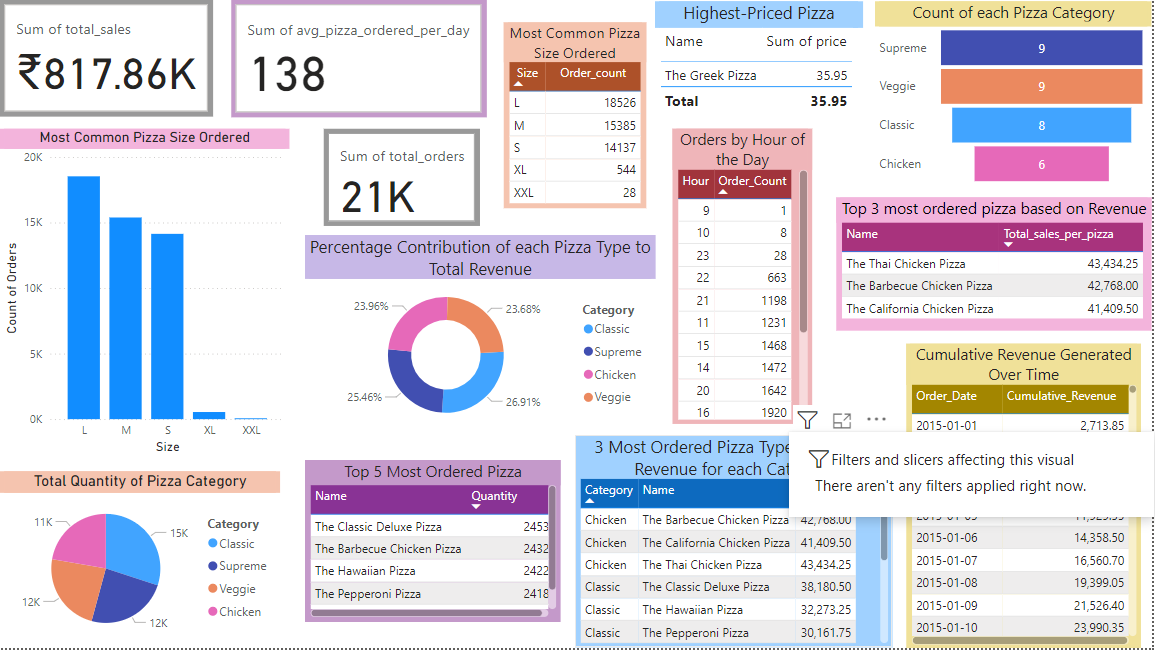

This screenshot's page, from the dashboard's own definition file:
{"tool":"powerbi","page":{"name":"Page 1","canvas":[1280,720],"ordinal":0},"visuals":[{"type":"cardVisual","fields":{"Data":["Sum(Query1.total_orders)"]},"box":[360,143.3,173.3,108.3],"z":0},{"type":"cardVisual","fields":{"Data":["Sum(Query3.total_sales)"]},"box":[0,0,237.7,129],"z":1000},{"type":"tableEx","title":"Highest-Priced Pizza","fields":{"Values":["pizzahut pizza_types.name","Sum(pizzahut pizzas.price)"]},"box":[727.9,1.5,230.9,129.4],"z":2000},{"type":"tableEx","title":"Most Common Pizza Size Ordered","fields":{"Values":["Query5.size","Query5.order_count"]},"box":[560,25,158.3,206.7],"z":3000},{"type":"clusteredColumnChart","title":"Most Common Pizza Size Ordered","fields":{"Category":["pizzahut pizzas.size"],"Y":["CountNonNull(pizzahut order_details.order_details_id)"]},"box":[0,143.3,321.7,366.7],"z":4000},{"type":"tableEx","title":"Top 5 Most Ordered Pizza","fields":{"Values":["pizzahut pizza_types.name","Sum(pizzahut order_details.quantity)"]},"box":[339.1,510.9,284.4,179.7],"z":5000},{"type":"pieChart","title":"Total Quantity of Pizza Category","fields":{"Category":["pizzahut pizza_types.category"],"Y":["Sum(pizzahut order_details.quantity)"]},"box":[0,523.2,311.6,197.1],"z":6000},{"type":"tableEx","title":"Orders by Hour of the Day","fields":{"Values":["Query6.HOUR(order_time)","Query6.order_count"]},"box":[746.7,143.3,155,328.3],"z":7000},{"type":"funnel","title":"Count of each Pizza Category","fields":{"Category":["Query7.category"],"Y":["Sum(Query7.COUNT(name))"]},"box":[972.1,1.5,307.4,208.8],"z":8000},{"type":"cardVisual","fields":{"Data":["Sum(Query9.avg_pizza_ordered_per_day)"]},"box":[256.2,0,283.8,130],"z":9000},{"type":"tableEx","title":"Top 3 most ordered pizza based on Revenue","fields":{"Values":["Query10.name","Sum(Query10.total_sales_per_pizza)"]},"box":[929,218.8,350.7,147.8],"z":10000},{"type":"donutChart","title":"Percentage Contribution of each Pizza Type to Total Revenue","fields":{"Category":["Query11.category"],"Y":["Sum(Query11.revenue)"]},"box":[338.5,261.5,389.4,222.1],"z":11000},{"type":"tableEx","title":"Cumulative Revenue Generated Over Time","fields":{"Values":["Query12.order_date","Query12.cum_revenue"]},"box":[1006.2,381.2,260.9,339.1],"z":12000},{"type":"tableEx","title":"3 Most Ordered Pizza Types based on Revenue for each Category","fields":{"Values":["Query13.category","Query13.name","Query13.revenue"]},"box":[639.1,482.8,353.1,235.9],"z":12001}]}

Visuals, with their boxes in screenshot pixels (x1, y1, x2, y2), scaled from the page's 1280x720 canvas onto the 1155x652 screenshot:
cardVisual - Sum(Query1.total_orders): pyautogui.locateOnScreen(325, 130, 481, 228)
cardVisual - Sum(Query3.total_sales): pyautogui.locateOnScreen(0, 0, 214, 117)
"Highest-Priced Pizza" tableEx: pyautogui.locateOnScreen(657, 1, 865, 119)
"Most Common Pizza Size Ordered" tableEx: pyautogui.locateOnScreen(505, 23, 648, 210)
"Most Common Pizza Size Ordered" clusteredColumnChart: pyautogui.locateOnScreen(0, 130, 290, 462)
"Top 5 Most Ordered Pizza" tableEx: pyautogui.locateOnScreen(306, 463, 563, 625)
"Total Quantity of Pizza Category" pieChart: pyautogui.locateOnScreen(0, 474, 281, 651)
"Orders by Hour of the Day" tableEx: pyautogui.locateOnScreen(674, 130, 814, 427)
"Count of each Pizza Category" funnel: pyautogui.locateOnScreen(877, 1, 1154, 190)
cardVisual - Sum(Query9.avg_pizza_ordered_per_day): pyautogui.locateOnScreen(231, 0, 487, 118)
"Top 3 most ordered pizza based on Revenue" tableEx: pyautogui.locateOnScreen(838, 198, 1154, 332)
"Percentage Contribution of each Pizza Type to Total Revenue" donutChart: pyautogui.locateOnScreen(305, 237, 657, 438)
"Cumulative Revenue Generated Over Time" tableEx: pyautogui.locateOnScreen(908, 345, 1143, 651)
"3 Most Ordered Pizza Types based on Revenue for each Category" tableEx: pyautogui.locateOnScreen(577, 437, 895, 651)
